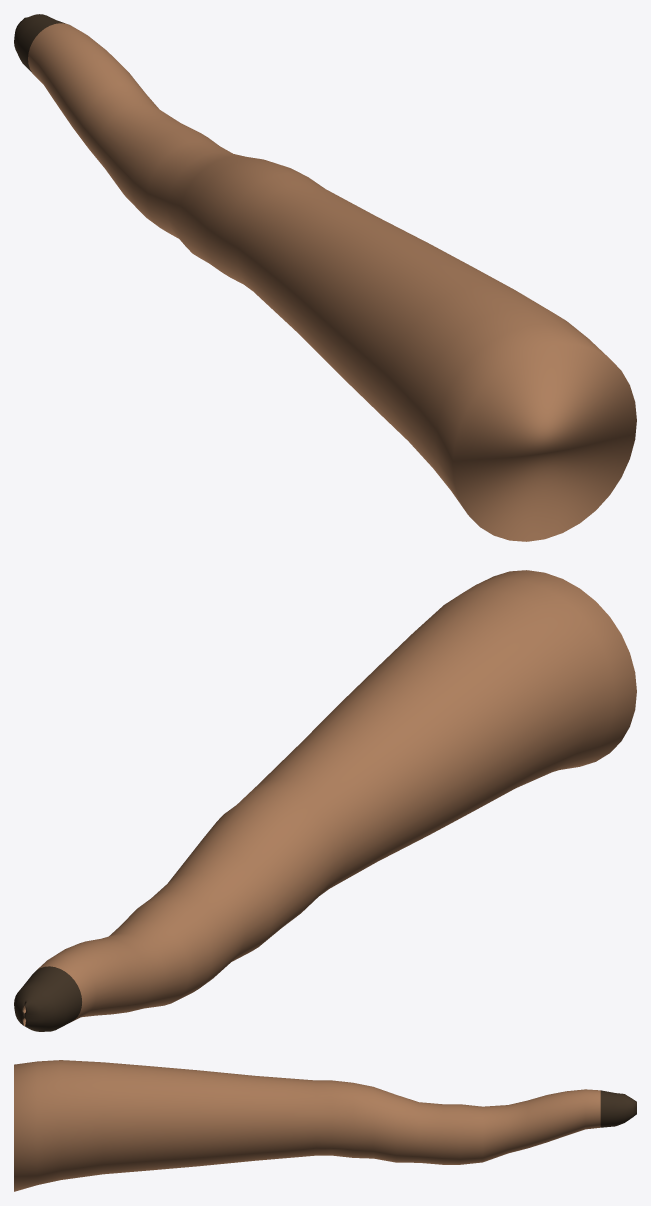
The model's file is geoduck.fbx.
3 views of the same model, one above another, from view 1: azimuth 30°, elevation 25°; view 2: azimuth 150°, elevation 25°; view 3: azimuth 270°, elevation 25° (orthographic). The views are drawn at different scales.
Visible parts, largest first — view 1: Geoduck; view 2: Geoduck; view 3: Geoduck.
Part boxes in pixels (x1=…): Geoduck: x1=14, y1=14, x2=636, y2=541; Geoduck: x1=14, y1=570, x2=636, y2=1031; Geoduck: x1=14, y1=1060, x2=636, y2=1191.
Size of the model in its own units: 15.54 by 16.19 by 75.92.
